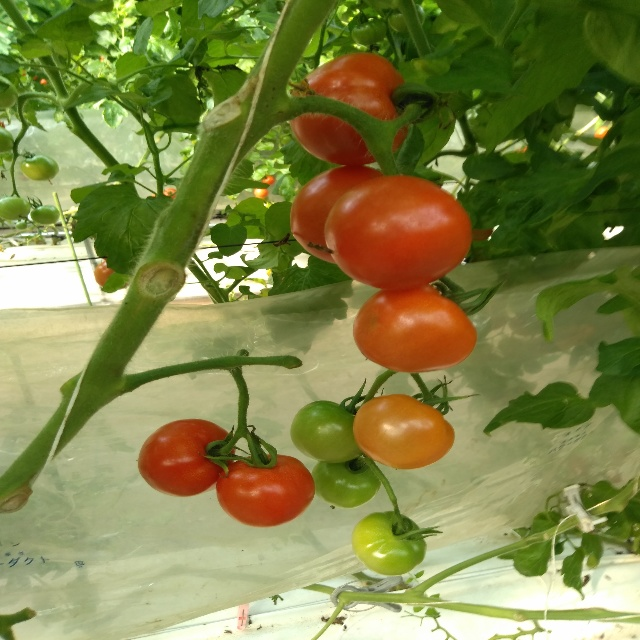l_fully_ripened: (323, 175, 472, 291), (289, 52, 420, 165), (352, 283, 477, 373), (290, 165, 387, 264), (136, 419, 237, 497), (215, 453, 315, 528)
l_green: (351, 511, 427, 575), (290, 400, 364, 464), (312, 454, 382, 510), (19, 154, 60, 182), (390, 3, 425, 33), (352, 19, 387, 45), (0, 196, 31, 221), (30, 204, 60, 226), (0, 75, 20, 108), (0, 127, 14, 154)
l_half_ripened: (352, 394, 456, 470)
